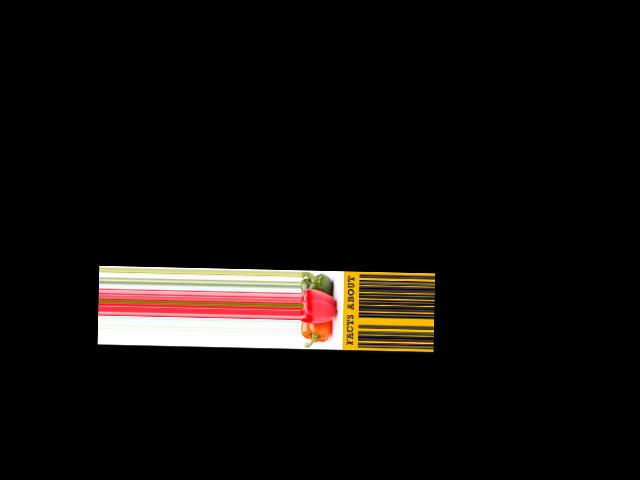bell_pepper: (301, 271, 338, 291)
